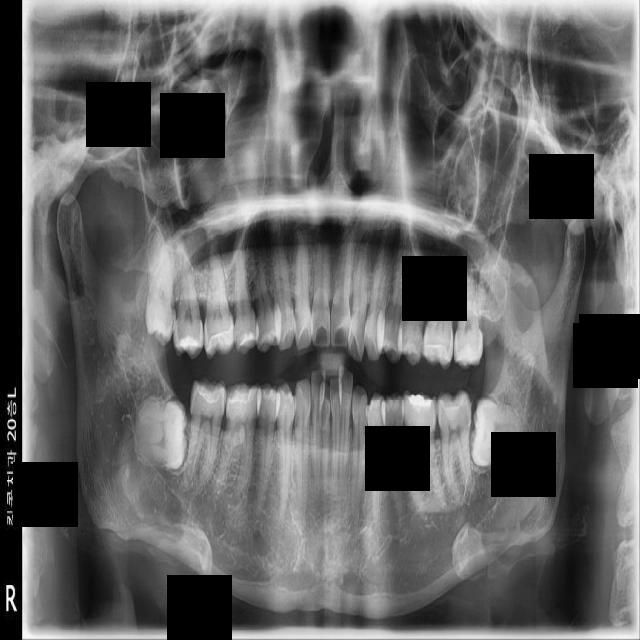3M ESPE Implant: (142, 219, 177, 347)
52: (396, 388, 439, 444), (187, 373, 230, 426), (418, 318, 456, 370), (224, 379, 262, 426), (204, 310, 237, 361), (170, 315, 207, 360), (230, 310, 262, 359)
73: (606, 586, 622, 602)
BioHorizons Implant: (451, 258, 489, 373)
Biomet 3i Implant: (468, 395, 523, 471)
Blue Sky Bio Implant: (434, 390, 475, 497)
Caries: (172, 233, 206, 361)
Implant: (186, 374, 228, 488)
Keystone Dental Implant: (131, 398, 193, 471)
